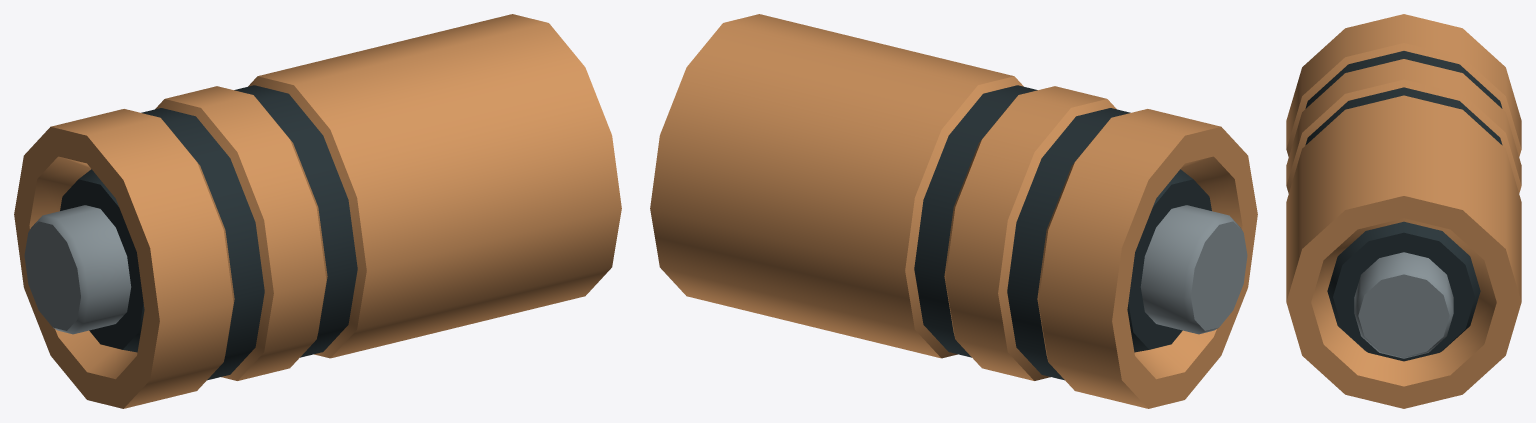
Rendered from battery.gltf.glb.
The picture shows the model from 3 angles, left to right: view 1: azimuth 30°, elevation 25°; view 2: azimuth 150°, elevation 25°; view 3: azimuth 270°, elevation 25°; orthographic projection. The views are drawn at different scales.
Parts seen in each view (by area): view 1: battery; view 2: battery; view 3: battery.
Part boxes in pixels (x1,y1,x2,y2): battery: (14, 14, 621, 408); battery: (650, 14, 1257, 408); battery: (1286, 14, 1521, 408).
Size of the model in its own units: 0.8452 by 0.4025 by 0.4025.
